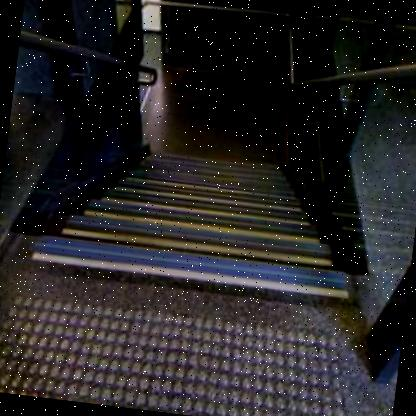stair: (60, 119, 334, 304)
